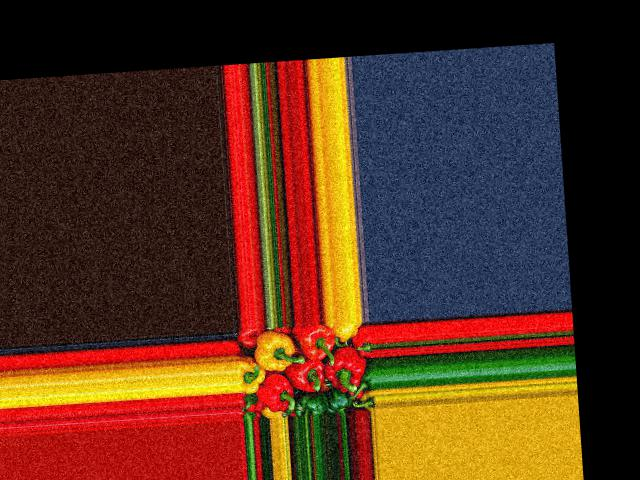bell_pepper: (333, 321, 358, 340)
